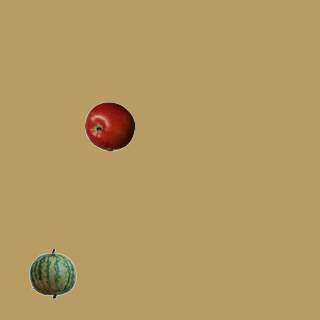Apple Braeburn: (84, 101, 134, 151)
Watermelon: (27, 248, 77, 298)
